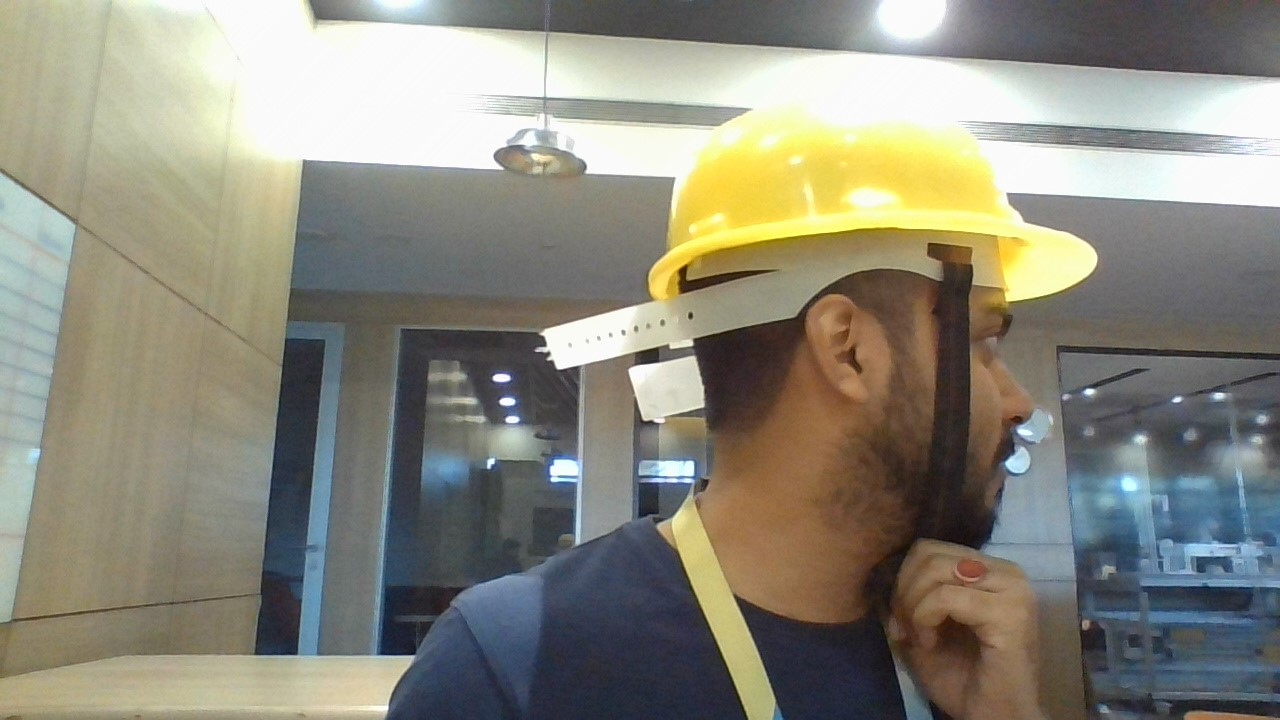Person_wearing_helmet: (593, 82, 1132, 368)
